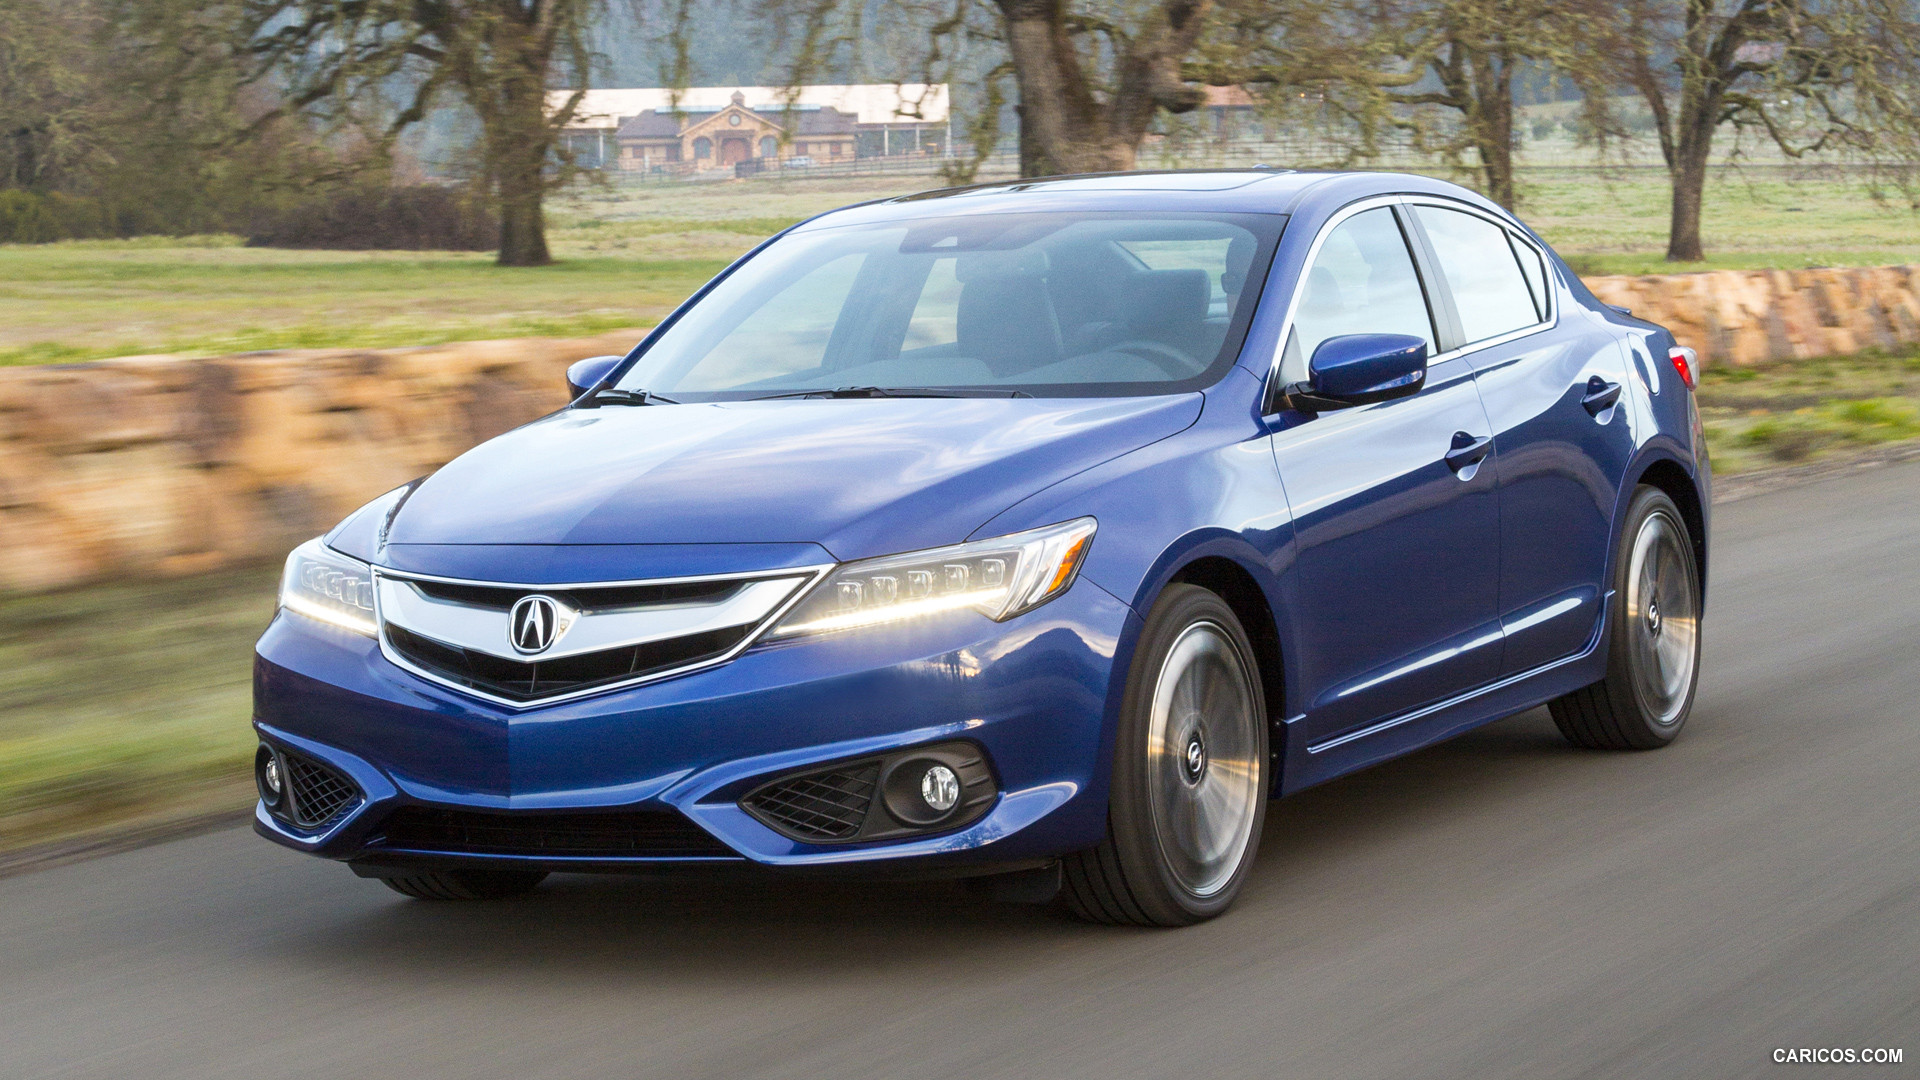Fog Lamp & Scope: (737, 738, 1009, 851)
Front: (248, 409, 1200, 853)
Front Bumper: (237, 707, 1100, 862)
Grill: (373, 568, 798, 705)
Headlight: (738, 512, 1106, 665)
